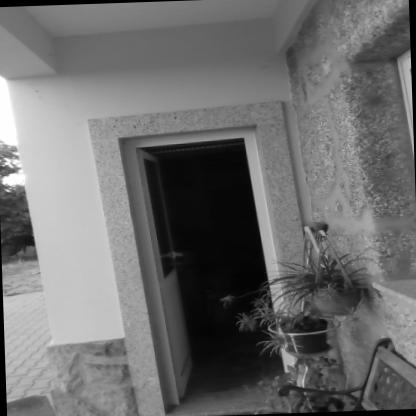open: (104, 119, 300, 410)
